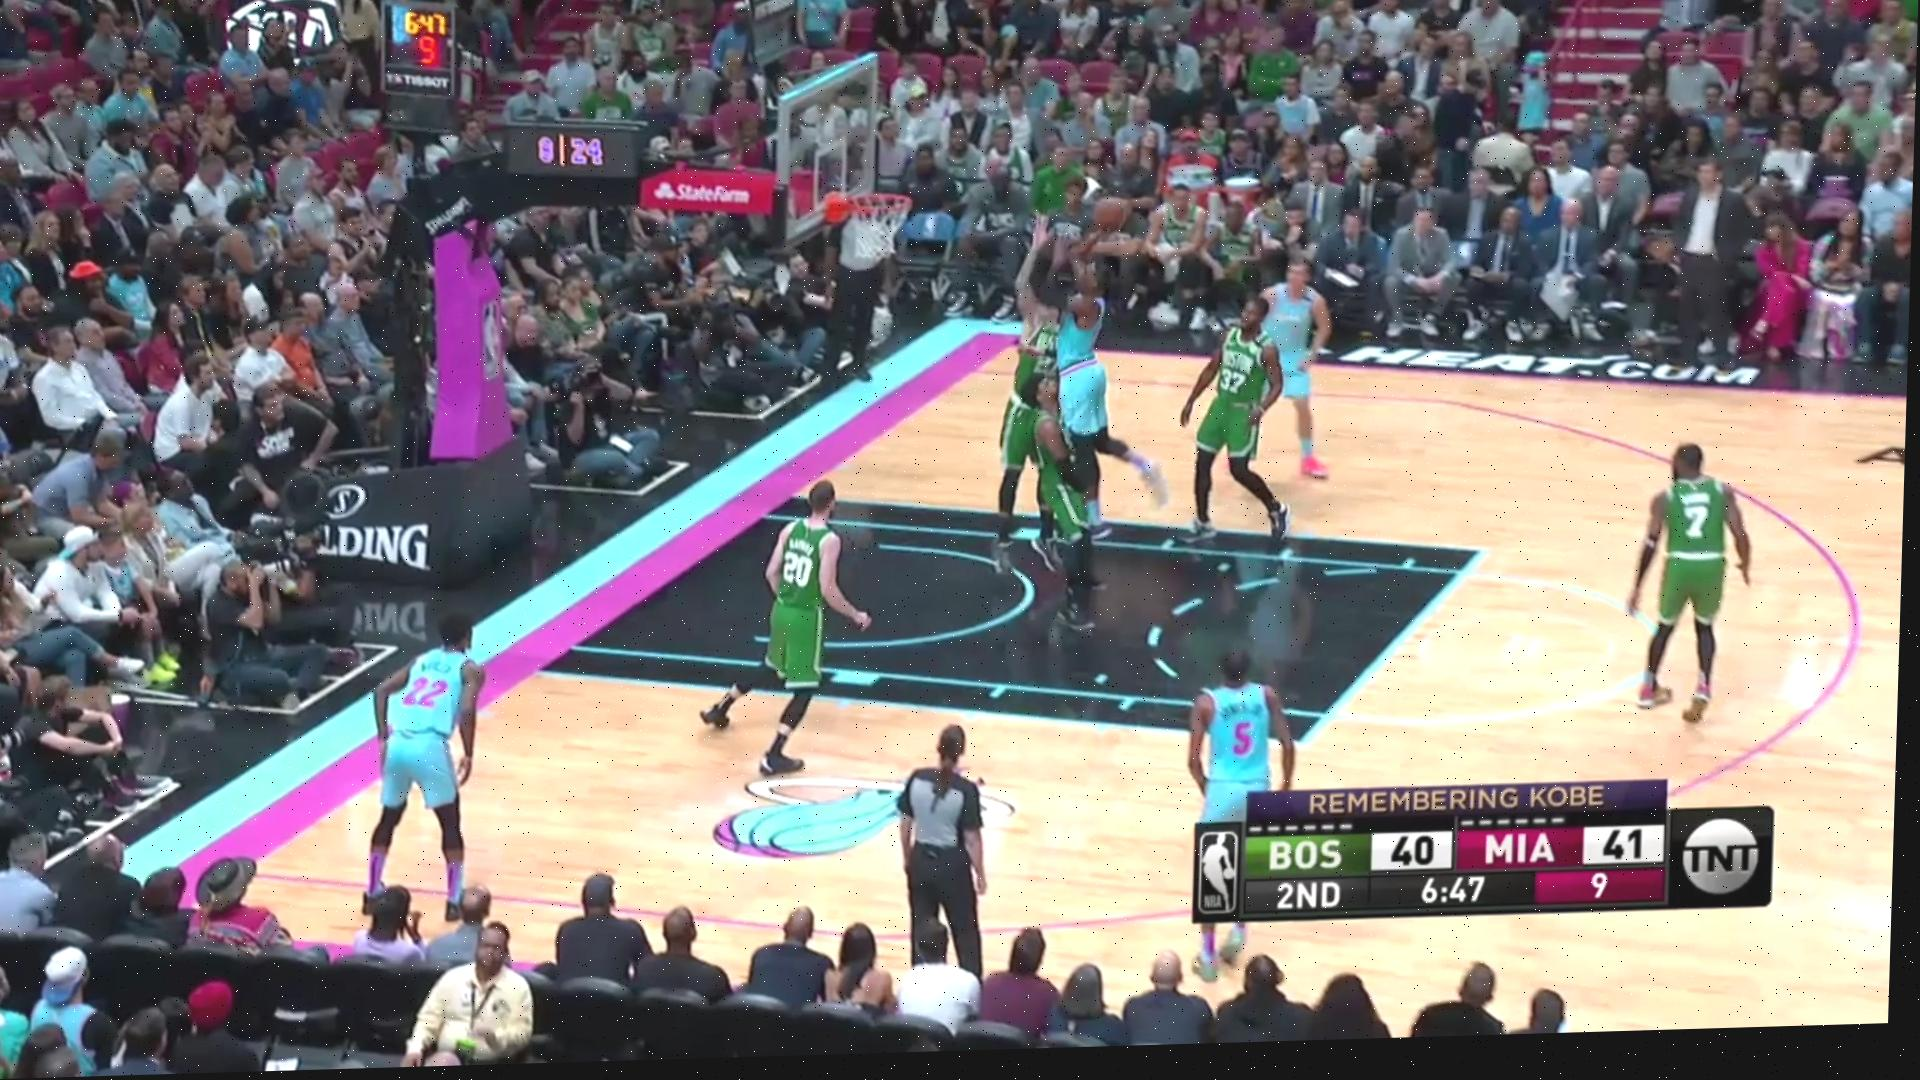foul: (1014, 280, 1138, 597)
